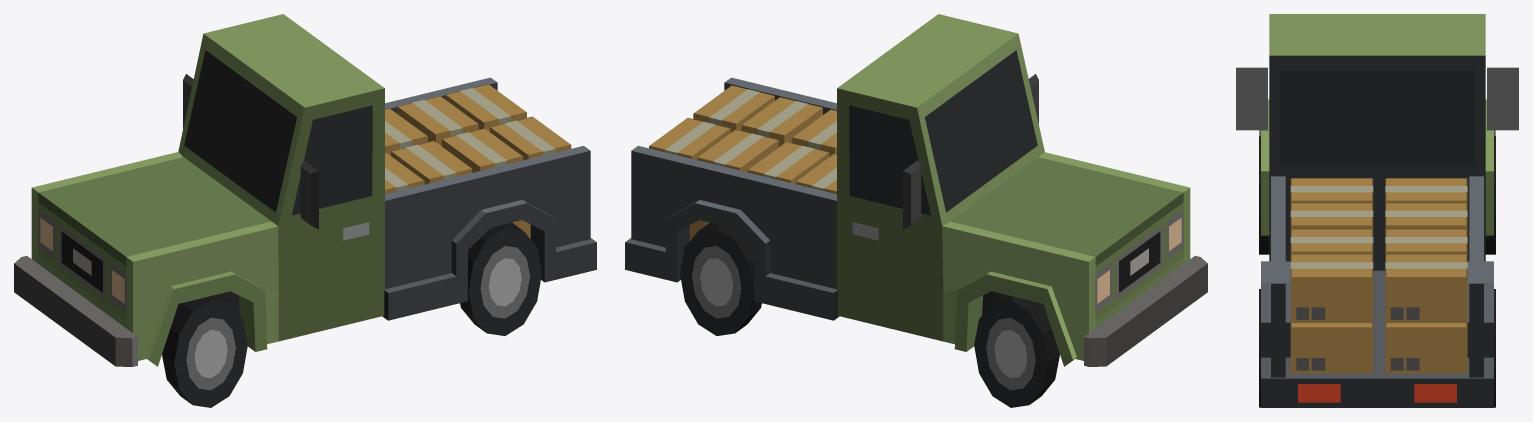
File: truck.fbx
3 renders of one model, left to right at view 1: azimuth 30°, elevation 25°; view 2: azimuth 150°, elevation 25°; view 3: azimuth 270°, elevation 25°, orthographic. The views are drawn at different scales.
Visible parts, largest first — view 1: Vehicle_Farm_Flatbed_02, Wheel_fl, Wheel_rl, SO_CarboardBox_013, SO_CarboardBox_011, SO_CarboardBox_012, SO_CarboardBox_010, SO_CarboardBox_014, SO_CarboardBox_015, SO_CarboardBox_017; view 2: Vehicle_Farm_Flatbed_02, Wheel_fr, Wheel_rr, SO_CarboardBox_012, SO_CarboardBox_010, SO_CarboardBox_013, SO_CarboardBox_011, SO_CarboardBox_015, SO_CarboardBox_014, SO_CarboardBox_016; view 3: Vehicle_Farm_Flatbed_02, SO_CarboardBox_010, SO_CarboardBox_011, SO_CarboardBox_09, SO_CarboardBox_08, SO_CarboardBox_014, SO_CarboardBox_015, SO_CarboardBox_012, SO_CarboardBox_017, SO_CarboardBox_013, SO_CarboardBox_016, Wheel_fl (+1 smaller).
Part boxes in pixels (box(x1,y1,x2,y2)): Vehicle_Farm_Flatbed_02: box(14, 14, 596, 366); Wheel_fl: box(162, 294, 247, 407); Wheel_rl: box(460, 222, 541, 335); SO_CarboardBox_013: box(397, 96, 478, 145); SO_CarboardBox_011: box(445, 84, 526, 131); SO_CarboardBox_012: box(441, 128, 523, 172); SO_CarboardBox_010: box(490, 116, 571, 160); SO_CarboardBox_014: box(391, 140, 472, 184); SO_CarboardBox_015: box(385, 108, 427, 155); SO_CarboardBox_017: box(385, 152, 424, 193); Vehicle_Farm_Flatbed_02: box(625, 14, 1207, 366); Wheel_fr: box(974, 294, 1059, 407); Wheel_rr: box(680, 222, 761, 335); SO_CarboardBox_012: box(741, 97, 822, 147); SO_CarboardBox_010: box(693, 85, 774, 132); SO_CarboardBox_013: box(697, 129, 778, 172); SO_CarboardBox_011: box(649, 118, 730, 159); SO_CarboardBox_015: box(748, 142, 829, 183); SO_CarboardBox_014: box(792, 109, 836, 156); SO_CarboardBox_016: box(796, 153, 836, 193); Vehicle_Farm_Flatbed_02: box(1236, 14, 1518, 407); SO_CarboardBox_010: box(1290, 254, 1373, 322); SO_CarboardBox_011: box(1385, 254, 1467, 322); SO_CarboardBox_09: box(1290, 323, 1373, 373); SO_CarboardBox_08: box(1385, 323, 1467, 373); SO_CarboardBox_014: box(1290, 203, 1373, 229); SO_CarboardBox_015: box(1385, 203, 1467, 229); SO_CarboardBox_012: box(1290, 229, 1373, 254); SO_CarboardBox_017: box(1290, 178, 1373, 203); SO_CarboardBox_013: box(1385, 229, 1467, 254); SO_CarboardBox_016: box(1385, 178, 1467, 203); Wheel_fl: box(1259, 136, 1269, 254).
Bounding box in the file's own units: 14.76 × 8.05 × 7.11.
2 materials, 2 textured.
